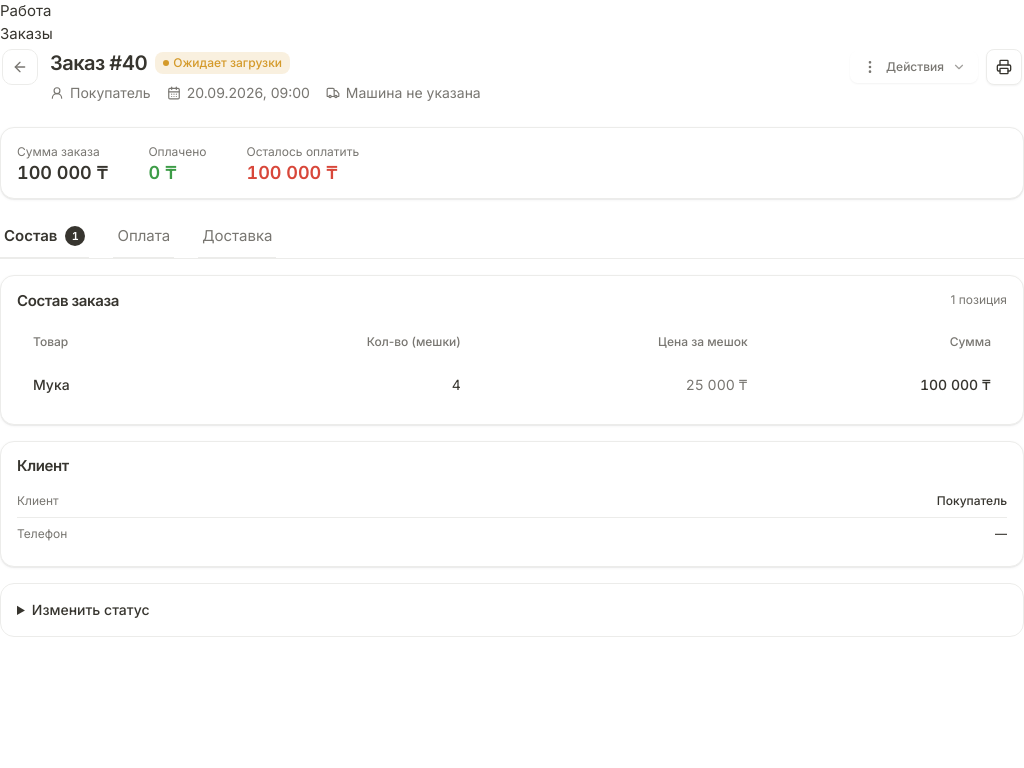
Test: asks before cancelling the order from its card
Check: the heading "Заказ #40" is shown, box [50, 49, 147, 77]
Click the heading "Изменить статус": x=91, y=610 [32, 601, 150, 618]
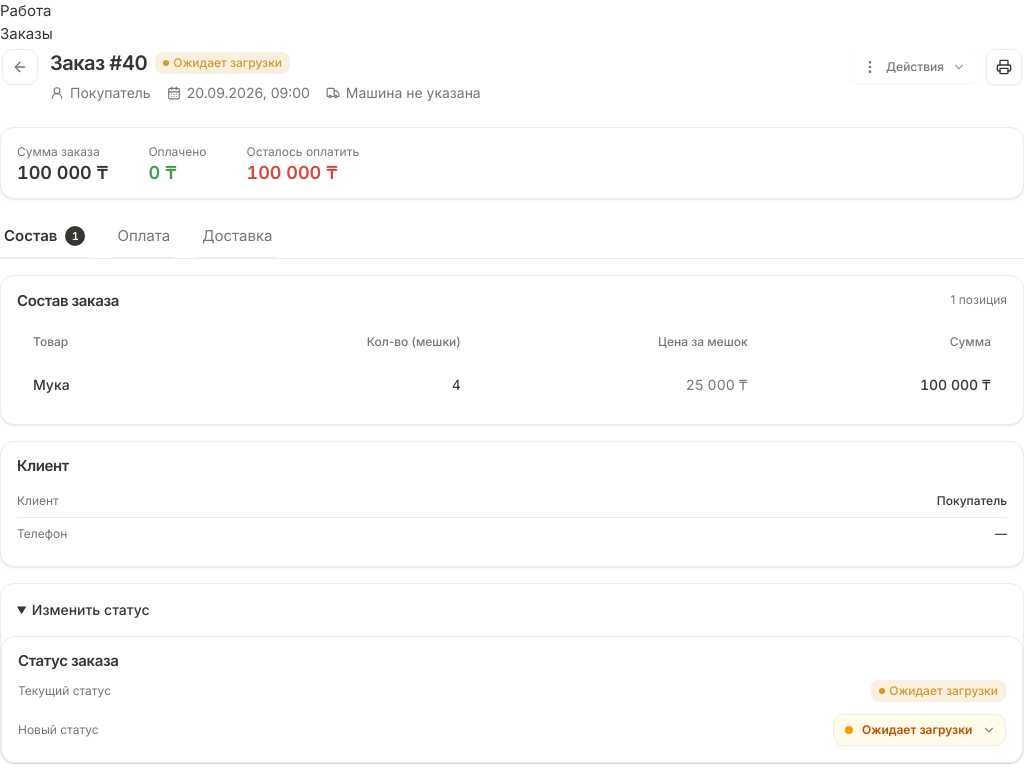
Select "Отменён" in the dropdown named "Статус заказа": x=920, y=730 [833, 714, 1006, 746]
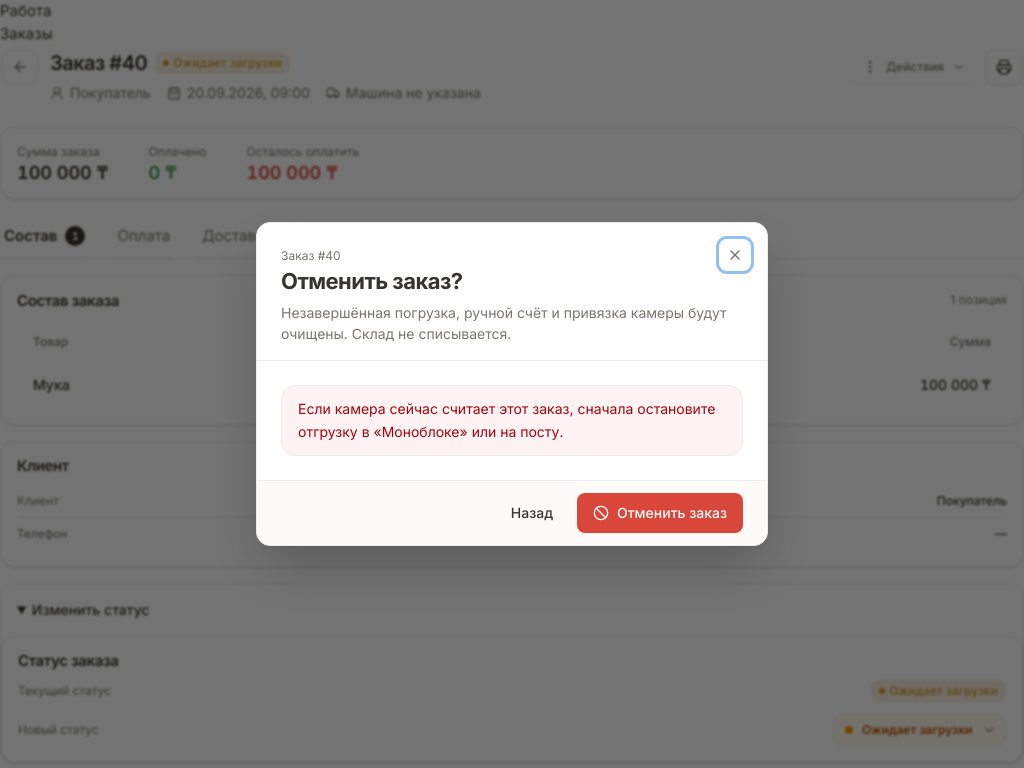
Check: the dialog "Отменить заказ?" is shown, box [256, 222, 768, 546]
